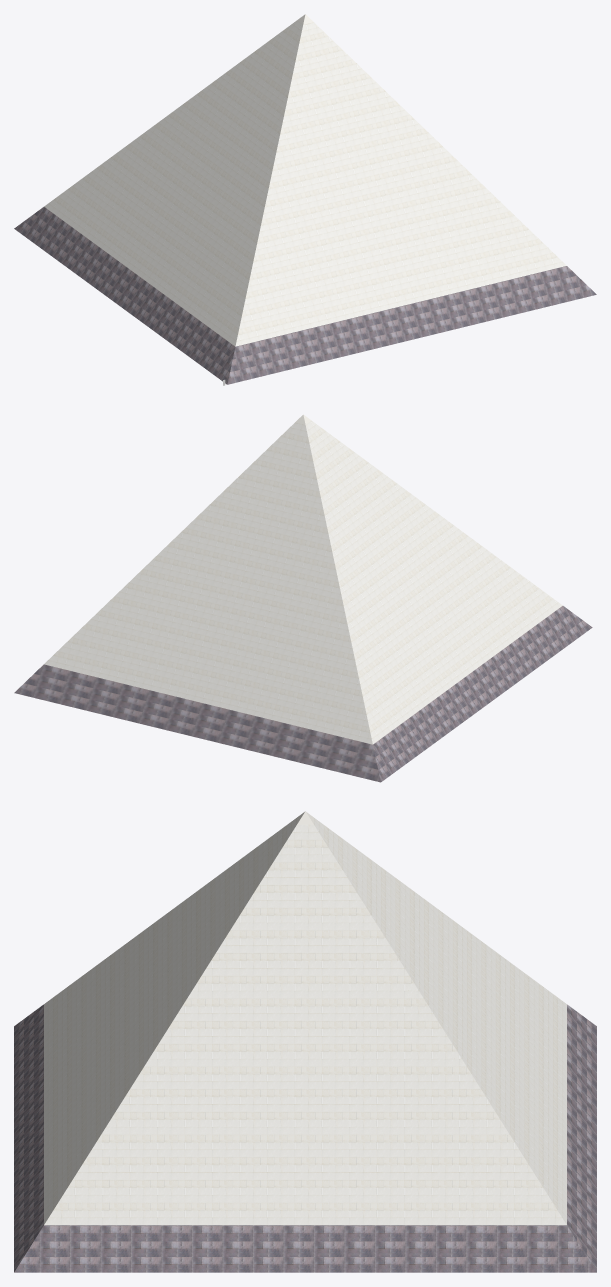
Rendered from Djedefre_Pyramid.glb.
3 views of the same model, one above another, from view 1: azimuth 30°, elevation 25°; view 2: azimuth 150°, elevation 25°; view 3: azimuth 270°, elevation 25° (orthographic). The views are drawn at different scales.
Parts seen in each view (by area): view 1: Mesh1 Model; view 2: Mesh1 Model; view 3: Mesh1 Model.
Boxes of the visible parts, left/top/right/bottom form: Mesh1 Model: left=14, top=14, right=596, bottom=384; Mesh1 Model: left=14, top=414, right=592, bottom=782; Mesh1 Model: left=14, top=811, right=596, bottom=1272.
Bounding box in the file's own units: 107 × 68 × 106.
5 materials, 3 textured.
